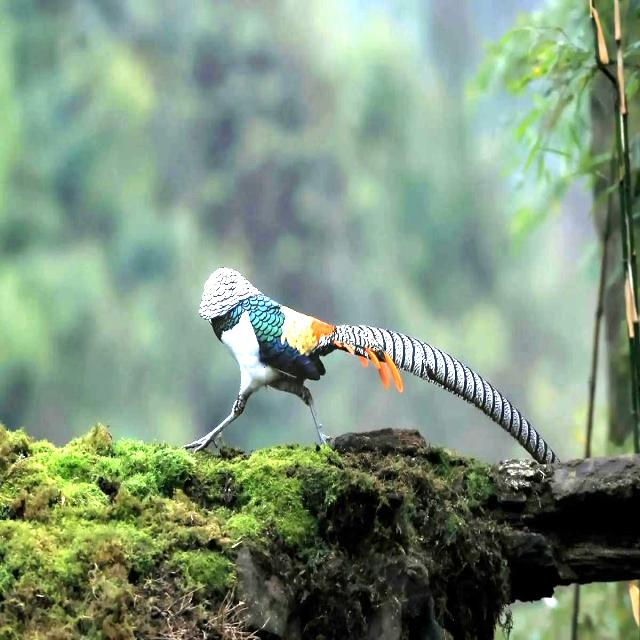Chrysolophus amherstiae: (315, 325, 556, 462)
